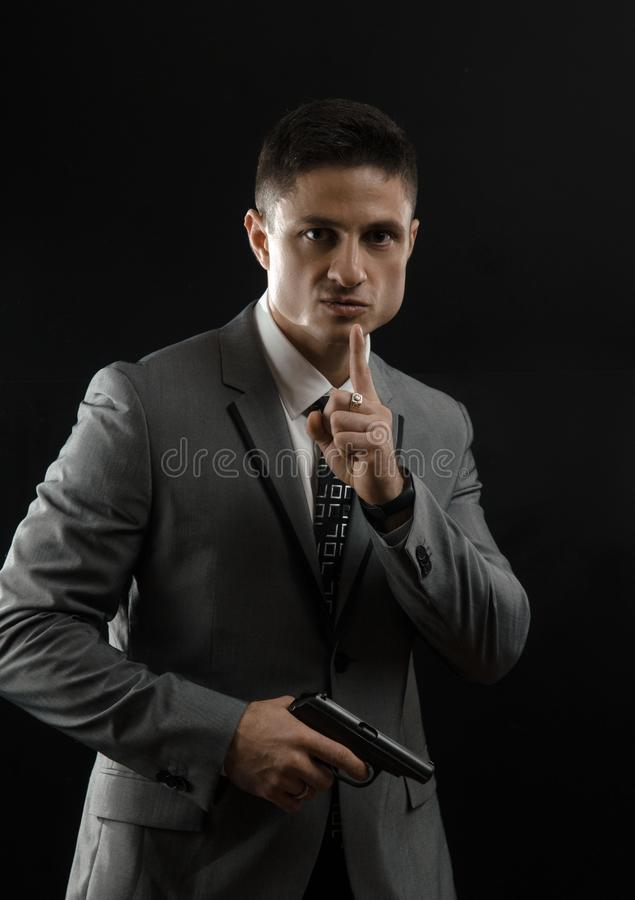criminal: (0, 92, 538, 900)
weapon: (282, 688, 444, 793)
